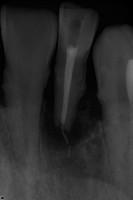Dental Caries: (42, 100, 118, 187)
